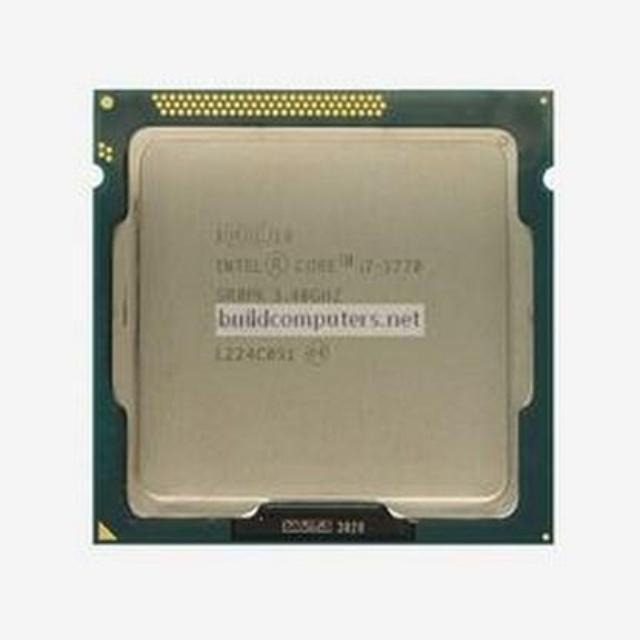CPU: (94, 87, 548, 544)
